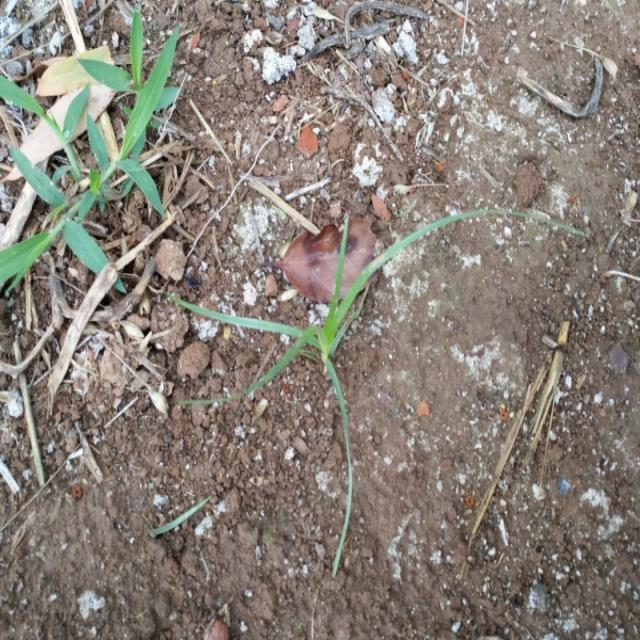sedge: (194, 185, 493, 545)
